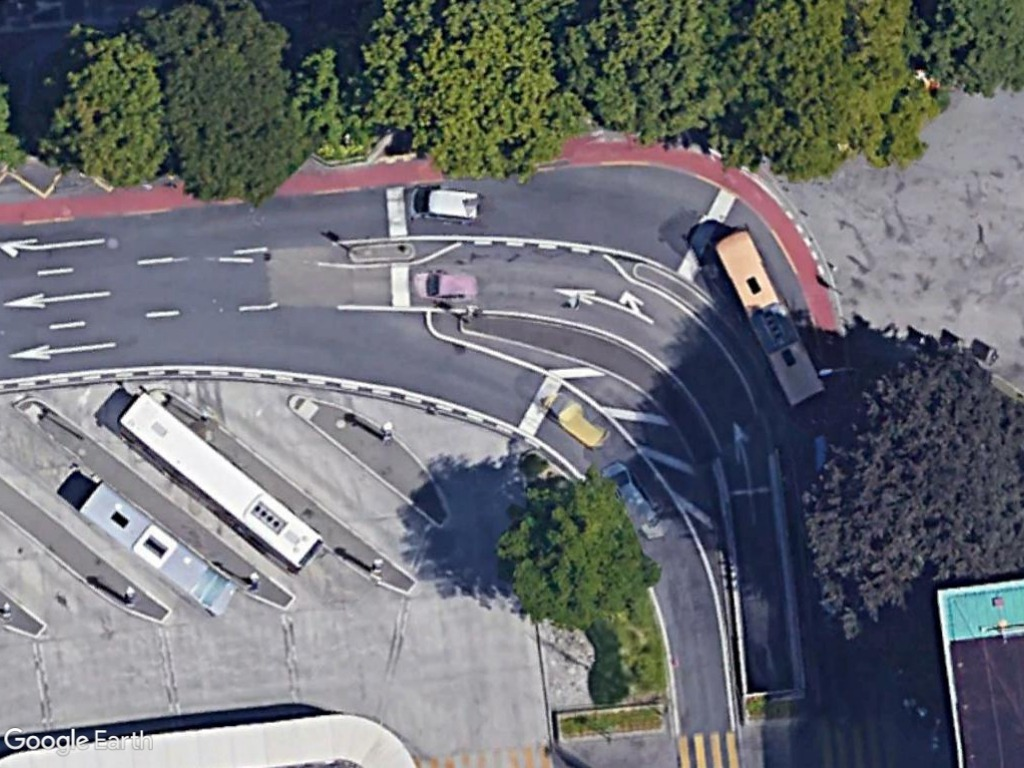bus: (117, 391, 327, 576), (76, 479, 240, 620), (712, 225, 827, 409)
